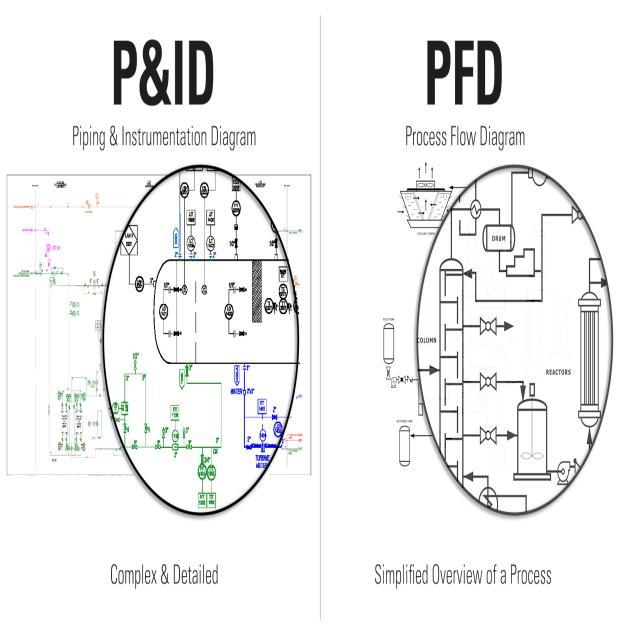Ball Valve: (474, 420, 501, 452), (476, 364, 500, 398), (476, 310, 498, 338), (386, 366, 390, 381)
Check Valve: (406, 370, 414, 384), (390, 374, 398, 388)
Globe Valve: (398, 374, 407, 386)
